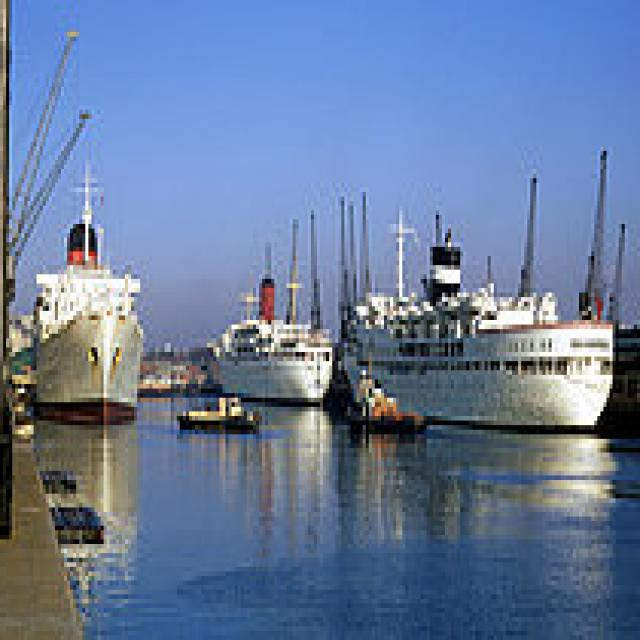Cruise: (341, 233, 622, 430), (34, 151, 150, 425), (204, 210, 338, 402)
